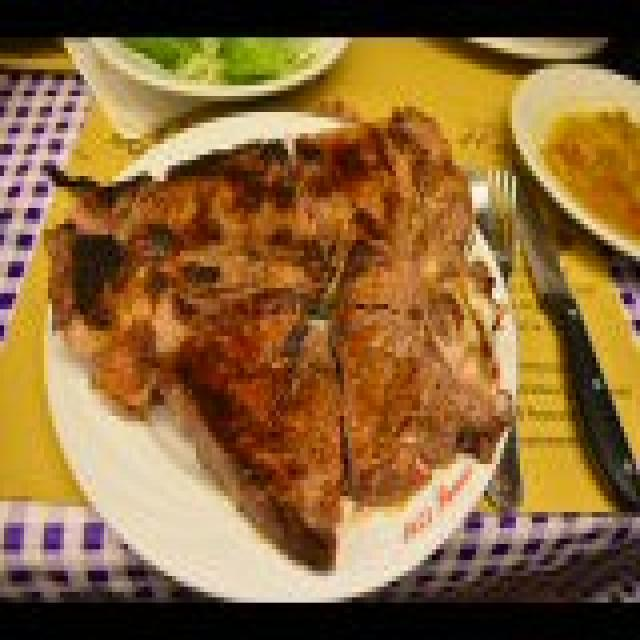Bowl: (508, 58, 636, 266)
Plate: (40, 107, 516, 602), (74, 22, 376, 99)
